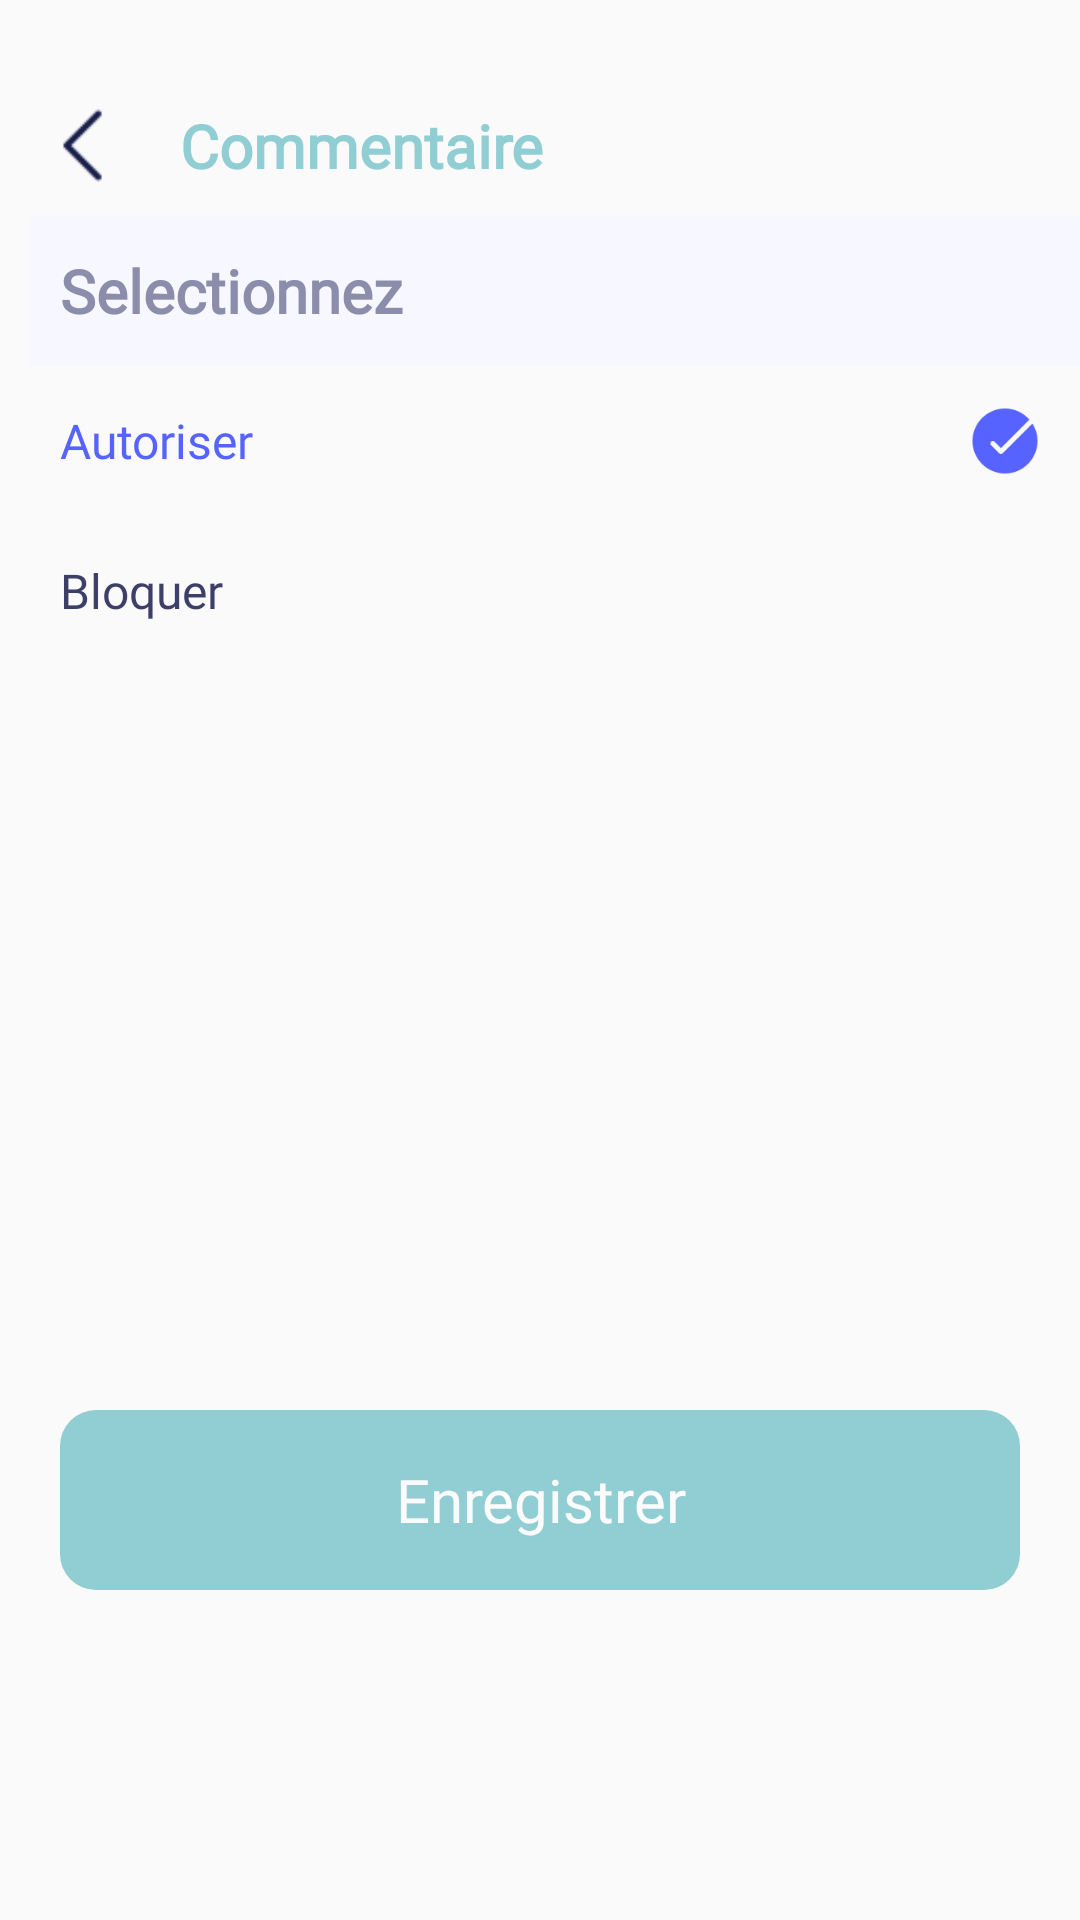

Icon bounding boxes for this 1080w x 1920h phone screenshot, format [left=x1, top=y1, right=x2, bottom=y2]:
blackback: [left=63, top=109, right=102, bottom=182]
checked: [left=972, top=408, right=1038, bottom=474]
